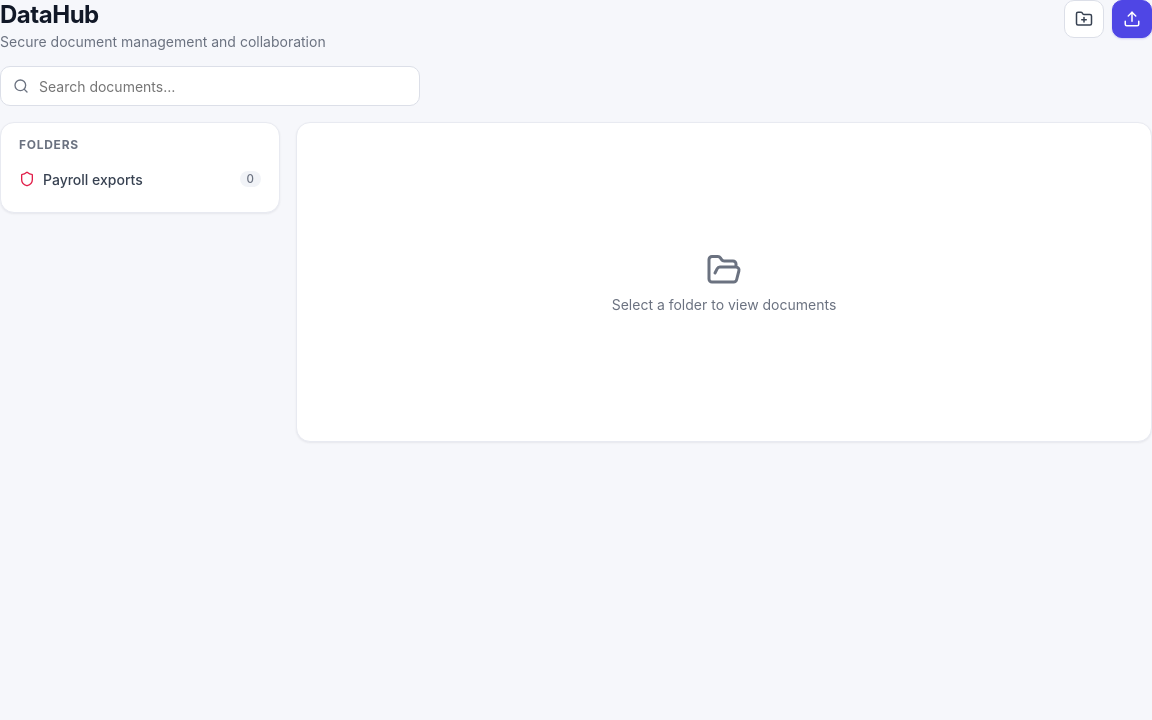
Test: DataHub page › a restricted download asks to confirm it's you, then downloads
The width and height of the screenshot is (1152, 720).
Step 1. Click the button "Payroll exports 0" → click(140, 179), box x1=11 y1=160 x2=269 y2=198
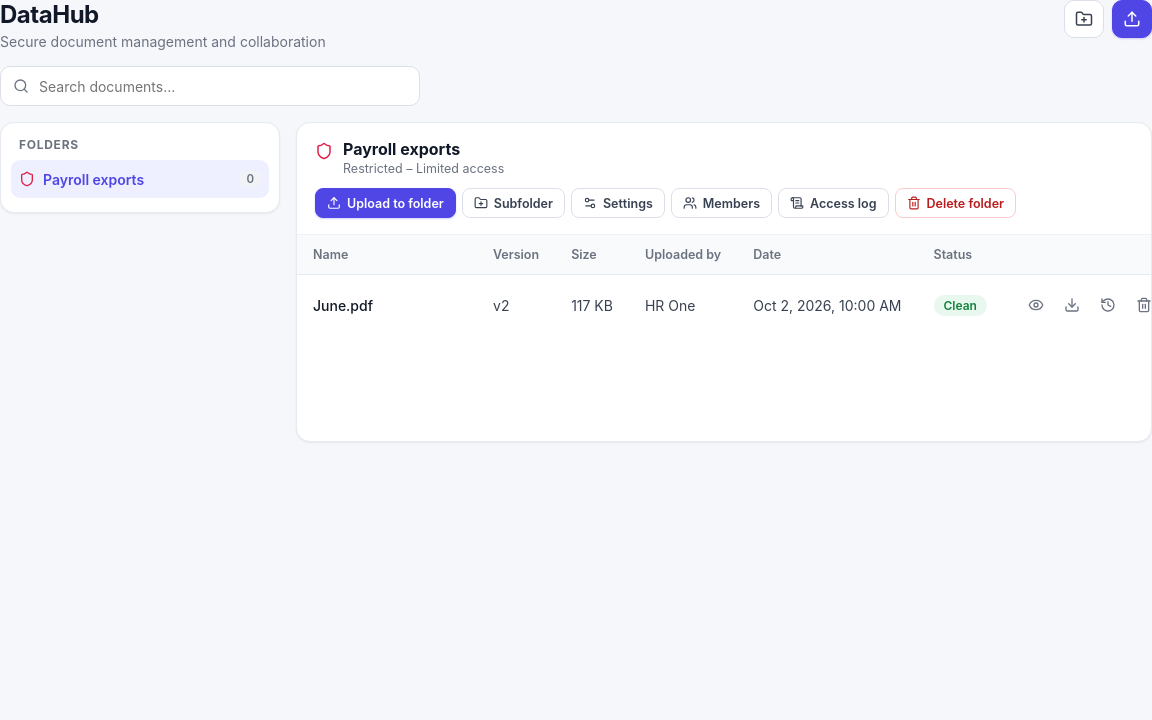
Step 2. Click the button named "Download June.pdf" → click(1072, 305), box x1=1055 y1=288 x2=1089 y2=322
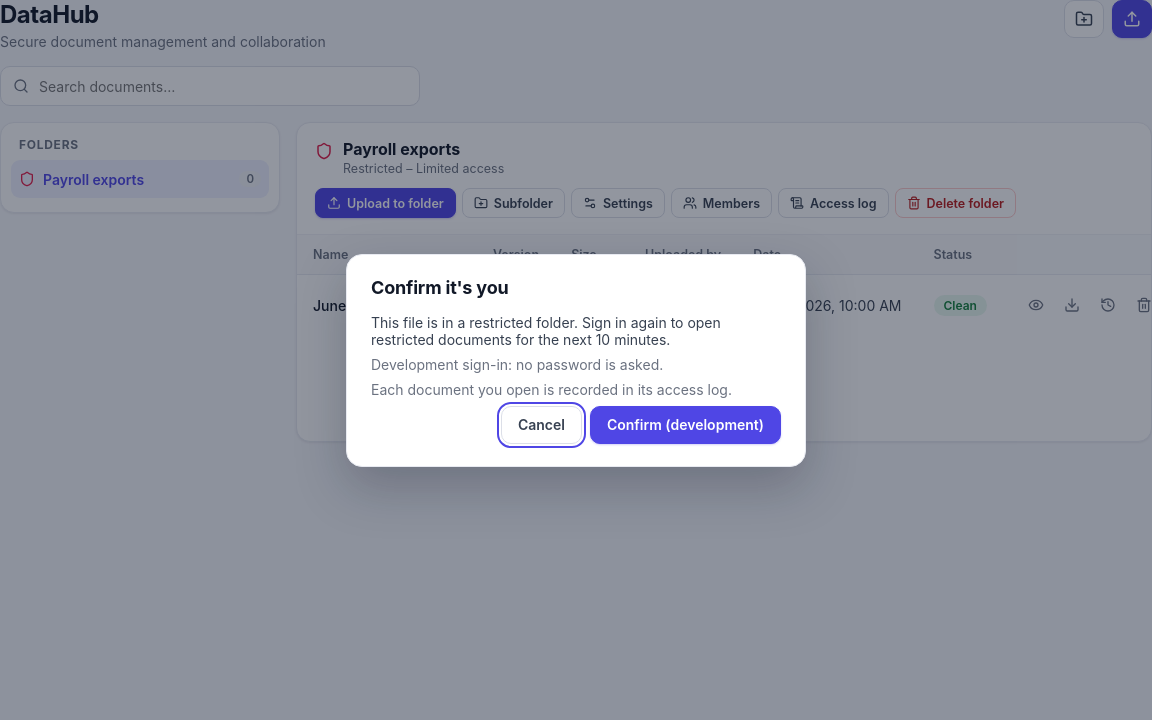
expect the dialog "Confirm it's you" shows "This file is in a restricted folder.": met, box x1=371 y1=314 x2=721 y2=348
Step 3. Click the button "Confirm (development)" → click(685, 424), box x1=590 y1=406 x2=781 y2=444
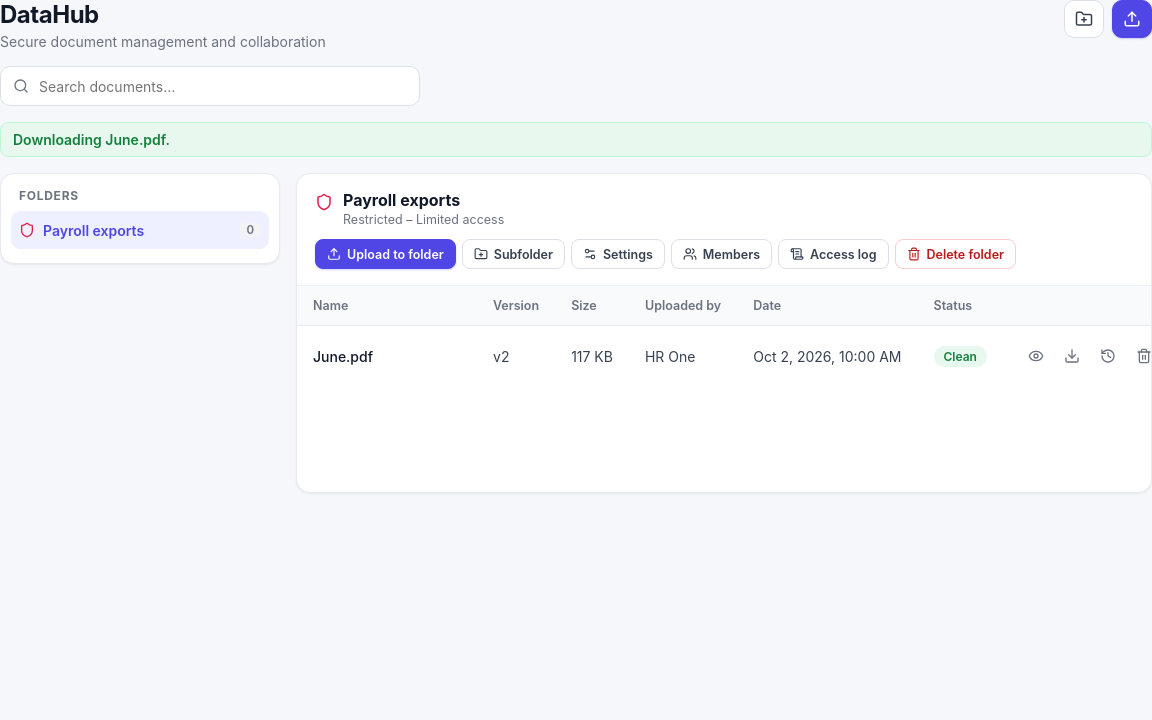
expect the dialog is gone: met
